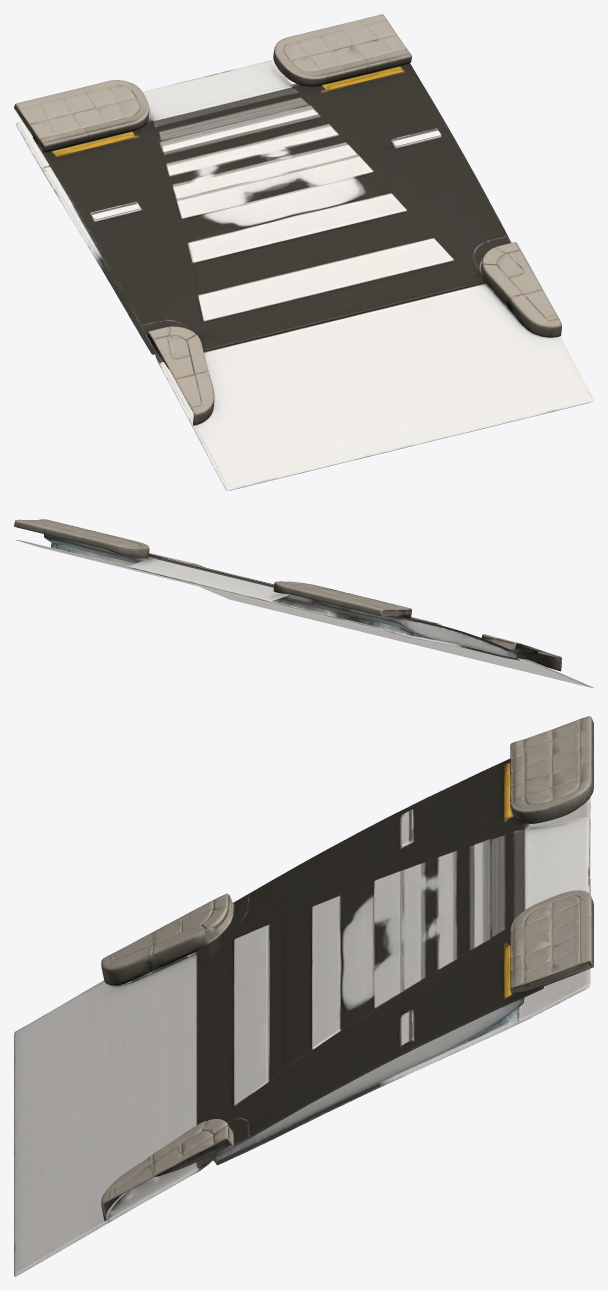
File: street.glb
The picture shows the model from 3 angles, top to bottom: view 1: azimuth 30°, elevation 25°; view 2: azimuth 150°, elevation 25°; view 3: azimuth 270°, elevation 25°; orthographic projection. The views are drawn at different scales.
Visible parts, largest first — view 1: node_0; view 2: node_0; view 3: node_0.
Boxes of the visible parts, bbox=[...] form: node_0: bbox=[14, 14, 593, 490]; node_0: bbox=[14, 519, 593, 687]; node_0: bbox=[14, 716, 593, 1276].
Size of the model in its own units: 0.7823 by 0.4733 by 0.7831.
1 material, 1 textured.
